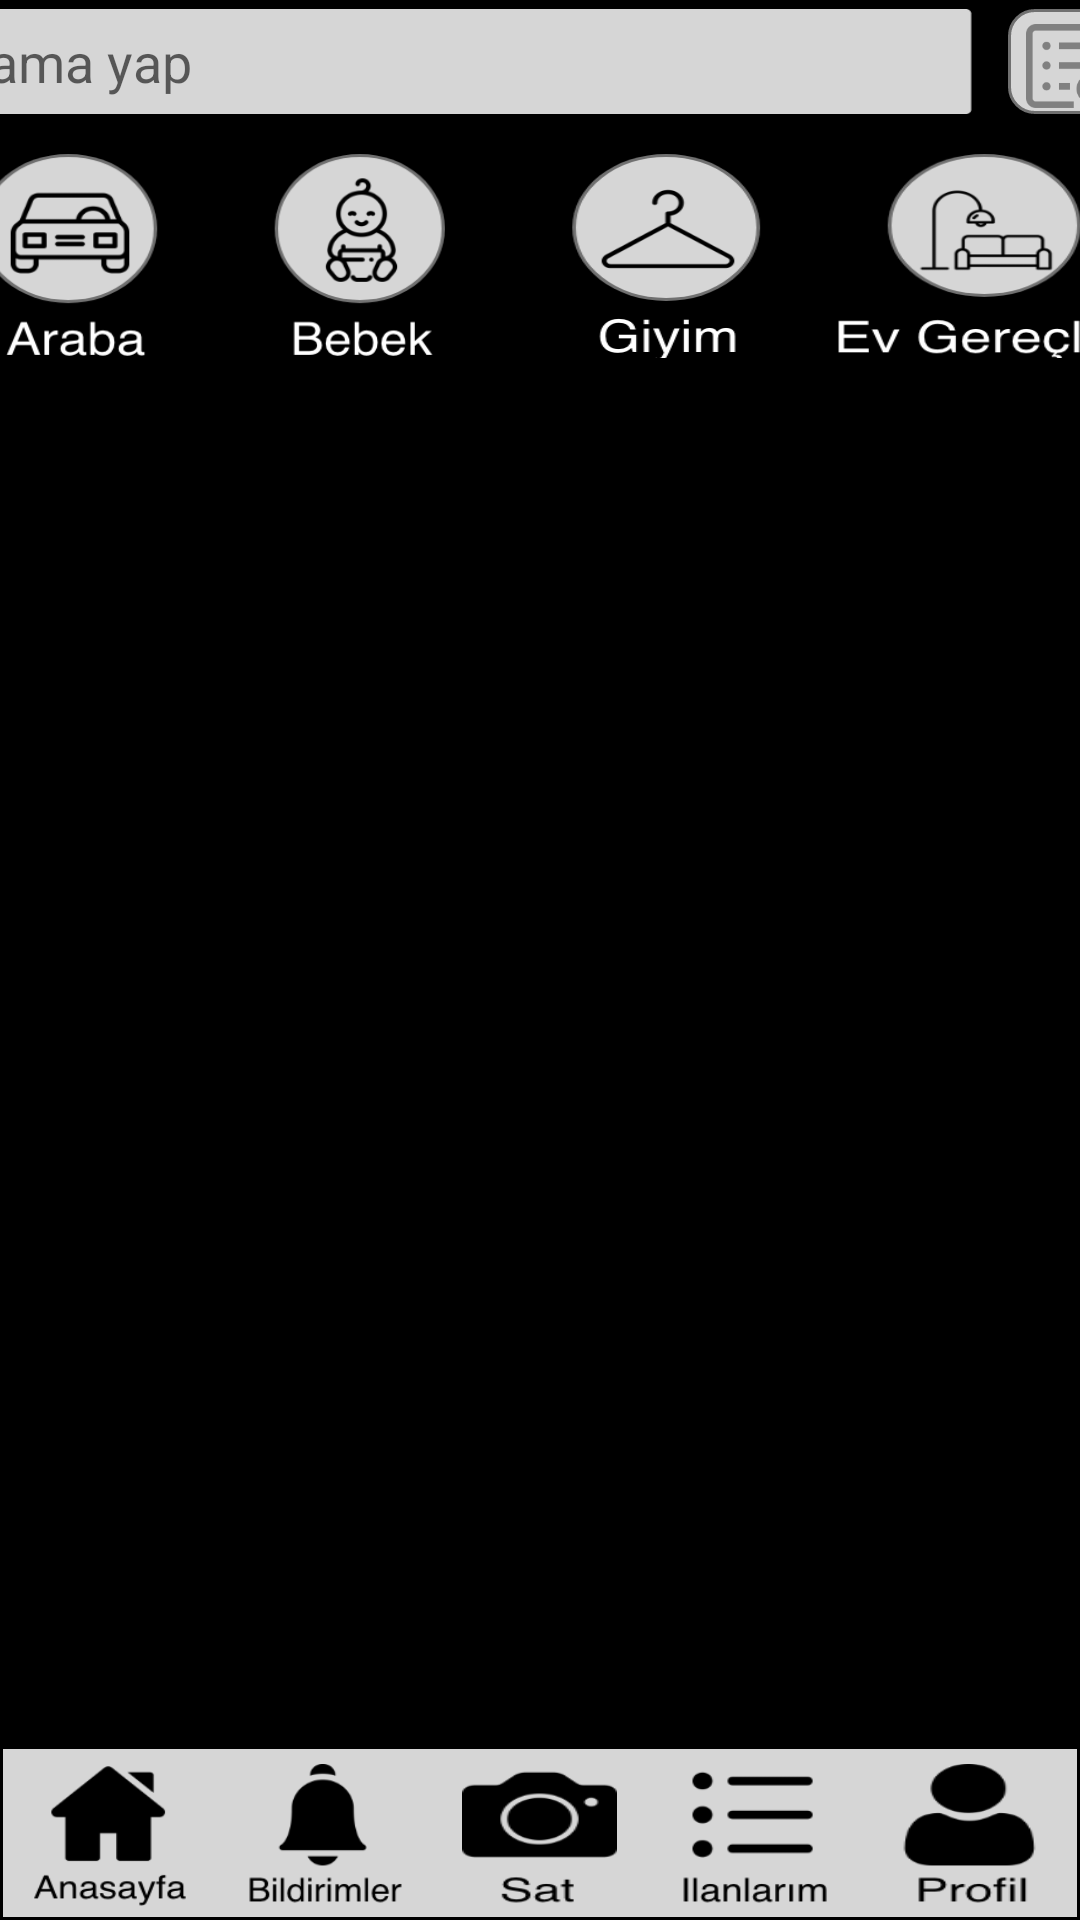

Icon click points for this 1080px×1920px phone screenshot, format point (x, y):
upload: point (539, 1837)
